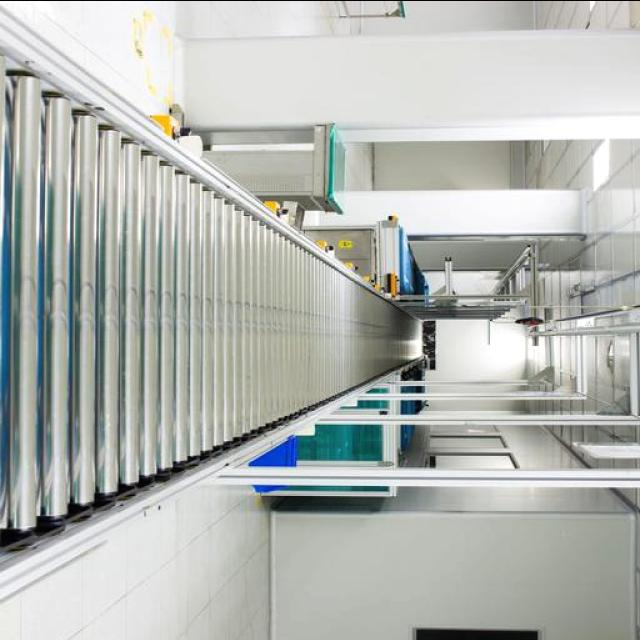conveyor: (2, 22, 422, 587)
